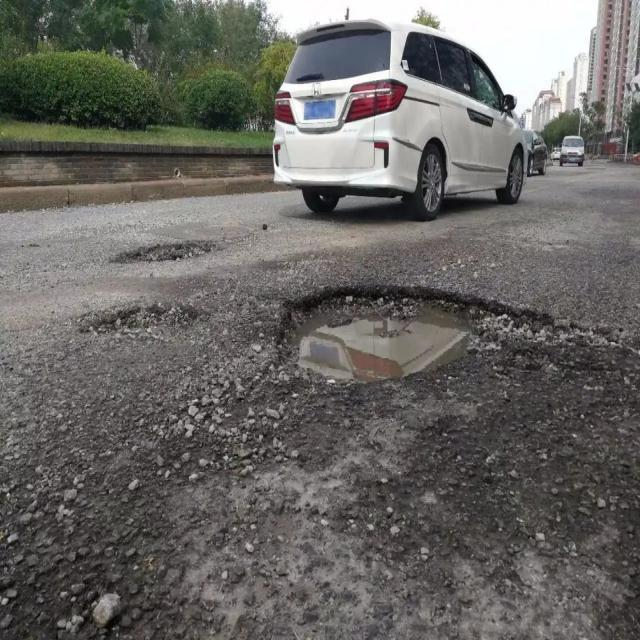Buraco: (268, 281, 600, 393), (72, 298, 217, 342), (103, 237, 240, 268)
